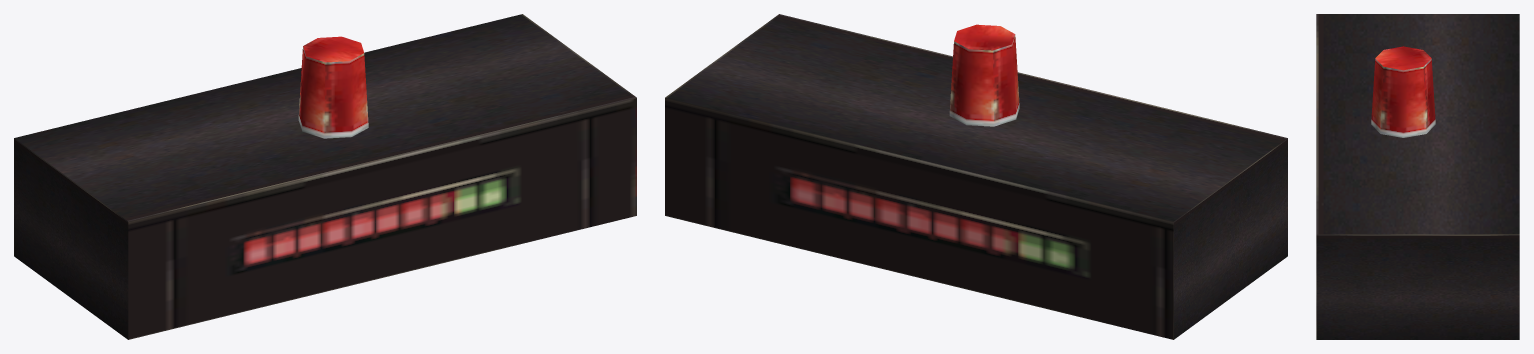
File: matrixmetaldetector_top.fbx
The picture shows the model from 3 angles, left to right: view 1: azimuth 30°, elevation 25°; view 2: azimuth 150°, elevation 25°; view 3: azimuth 270°, elevation 25°; orthographic projection. The views are drawn at different scales.
Parts seen in each view (by area): view 1: mesh_0; view 2: mesh_0; view 3: mesh_0.
Part boxes in pixels (x1,y1,x2,y2): mesh_0: (14,14,636,339); mesh_0: (665,14,1287,339); mesh_0: (1316,14,1519,339).
Size of the model in its own units: 180 by 65.1 by 70.
Materials: 1 (1 with a texture image).
